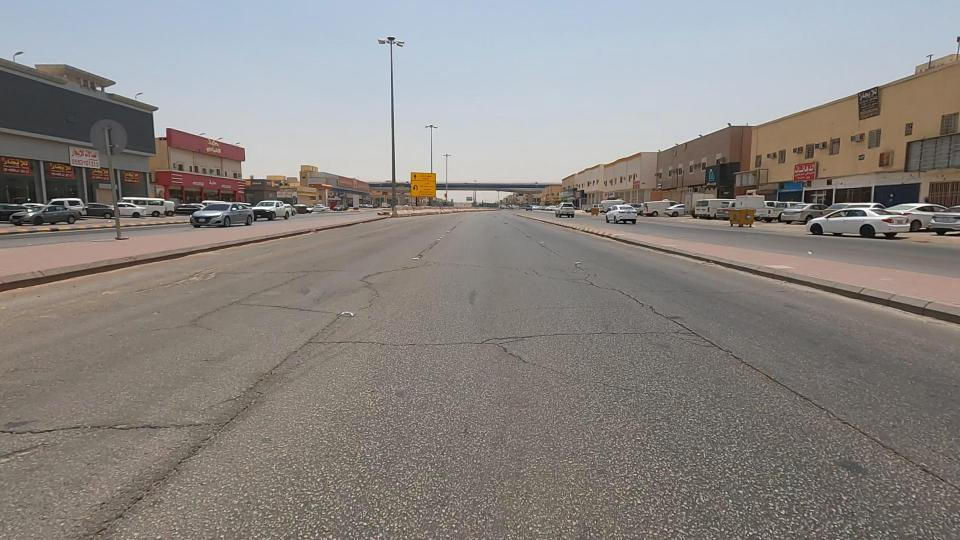BAD_BILLBOARD: (848, 119, 960, 189)
